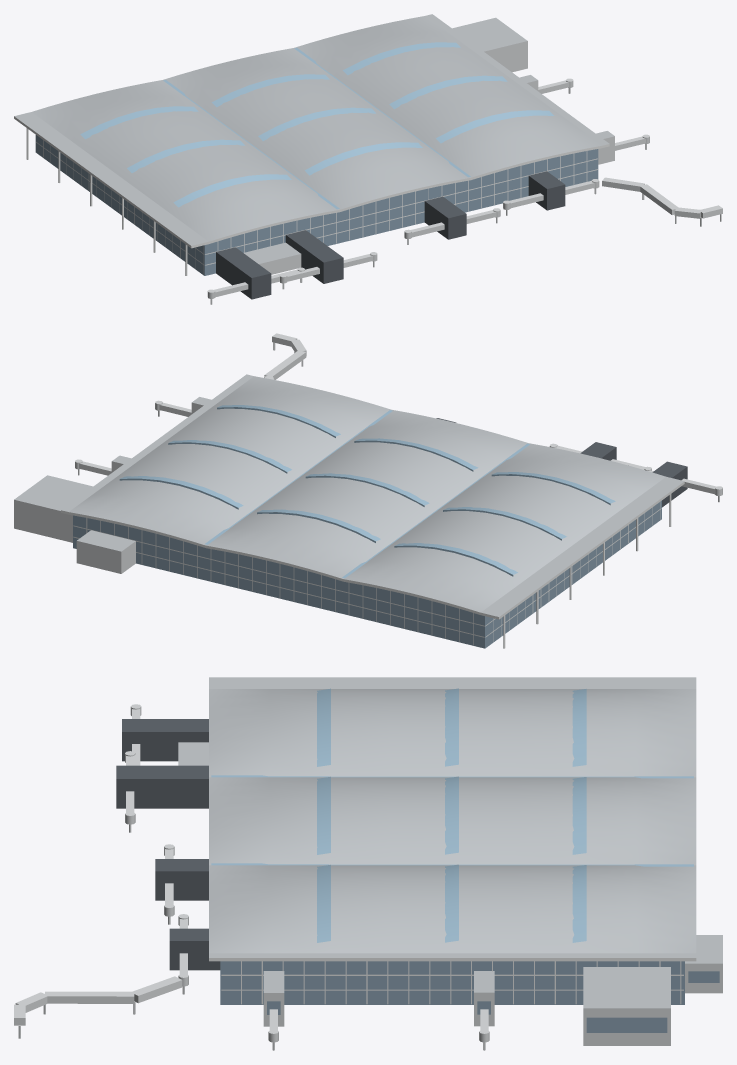
File: london-heathrow-terminal-2.glb
3 views of the same model, one above another, from view 1: azimuth 30°, elevation 25°; view 2: azimuth 150°, elevation 25°; view 3: azimuth 270°, elevation 25° (orthographic). The views are drawn at different scales.
Visible parts, largest first — view 1: Heathrow Terminal 2, The Queen's Terminal; view 2: Heathrow Terminal 2, The Queen's Terminal; view 3: Heathrow Terminal 2, The Queen's Terminal.
Part boxes in pixels (x1,y1,x2,y2): Heathrow Terminal 2, The Queen's Terminal: [14, 14, 722, 304]; Heathrow Terminal 2, The Queen's Terminal: [14, 333, 722, 648]; Heathrow Terminal 2, The Queen's Terminal: [14, 677, 722, 1050].
Size of the model in its own units: 336 by 34 by 305.
